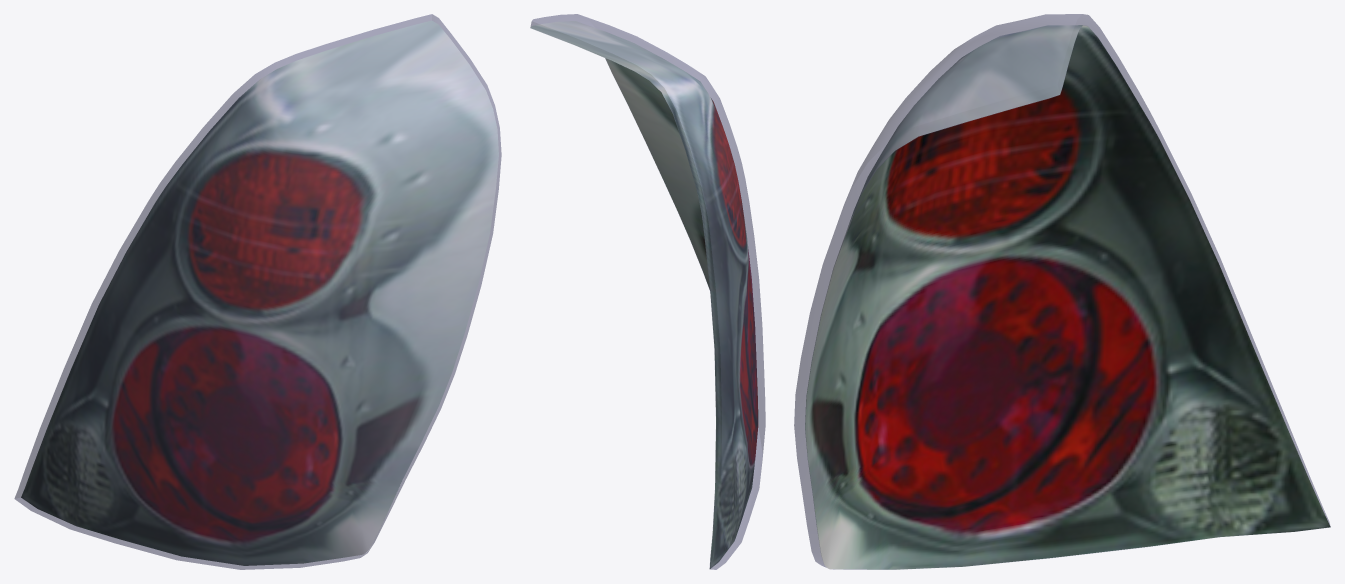
The picture shows the model from 3 angles, left to right: view 1: azimuth 30°, elevation 25°; view 2: azimuth 150°, elevation 25°; view 3: azimuth 270°, elevation 25°; orthographic projection. The views are drawn at different scales.
Visible parts, largest first — view 1: Z186_541C_R_1_DTaSI_Z186_541C_R, Z186_541C_R_Z186_541C_R_2_N; view 2: Z186_541C_R_Z186_541C_R_2_N, Z186_541C_R_1_DTaSI_Z186_541C_R; view 3: Z186_541C_R_Z186_541C_R_2_N, Z186_541C_R_1_DTaSI_Z186_541C_R.
Part boxes in pixels (x1,y1,x2,y2): Z186_541C_R_1_DTaSI_Z186_541C_R: [14, 14, 501, 569]; Z186_541C_R_Z186_541C_R_2_N: [21, 20, 498, 565]; Z186_541C_R_Z186_541C_R_2_N: [530, 21, 758, 568]; Z186_541C_R_1_DTaSI_Z186_541C_R: [530, 14, 765, 569]; Z186_541C_R_Z186_541C_R_2_N: [805, 25, 1330, 569]; Z186_541C_R_1_DTaSI_Z186_541C_R: [794, 14, 1330, 569].
Size of the model in its own units: 26.21 by 38.07 by 28.68.
